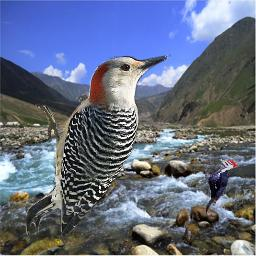Woodpecker: (26, 54, 171, 237), (205, 158, 240, 216)
